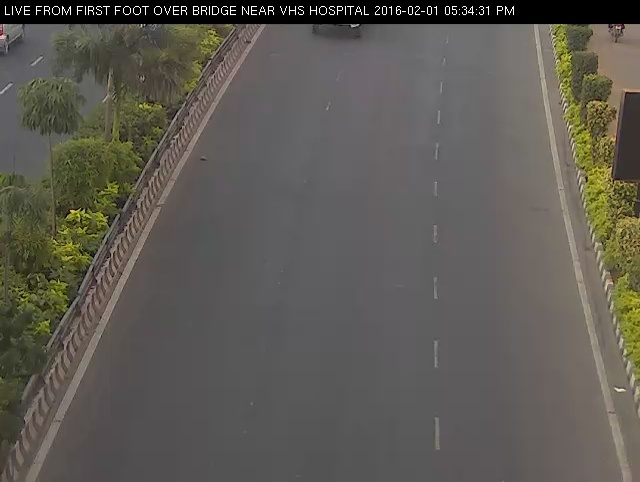Car: (297, 12, 370, 42)
